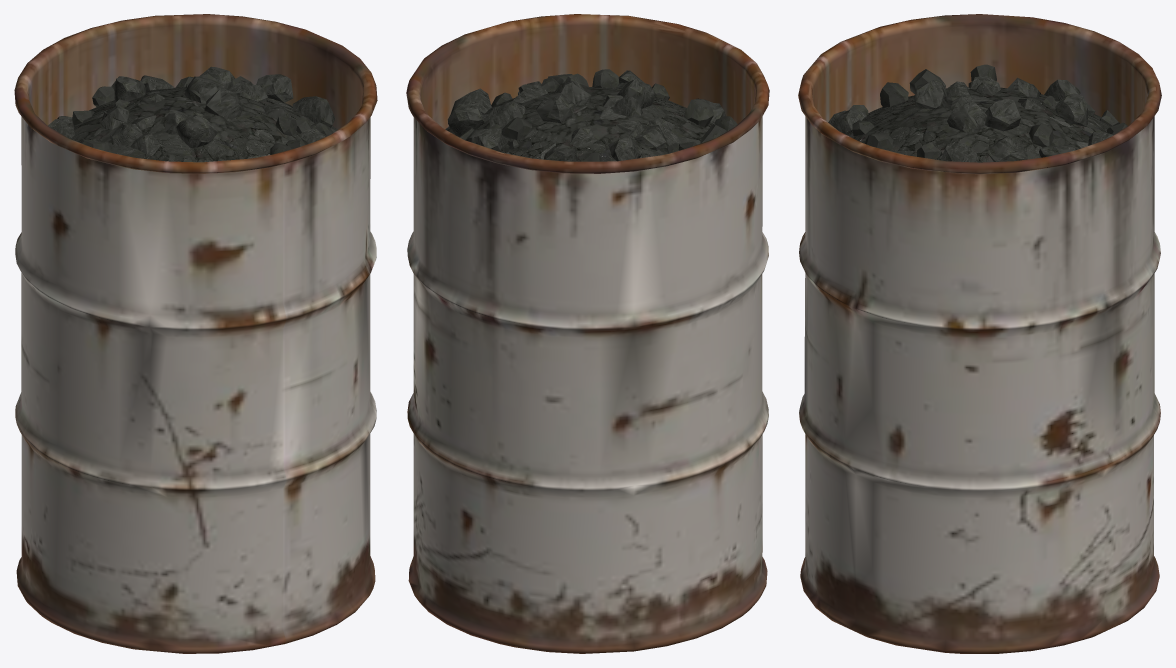
File: hobobarrel_static_alwayson.glb
3 renders of one model, left to right at view 1: azimuth 30°, elevation 25°; view 2: azimuth 150°, elevation 25°; view 3: azimuth 270°, elevation 25°, orthographic.
Parts seen in each view (by area): view 1: hobobarrel_LOD0; view 2: hobobarrel_LOD0; view 3: hobobarrel_LOD0.
Part boxes in pixels (x1=…): hobobarrel_LOD0: x1=14, y1=14, x2=377, y2=653; hobobarrel_LOD0: x1=406, y1=14, x2=769, y2=653; hobobarrel_LOD0: x1=798, y1=14, x2=1161, y2=653.
Size of the model in its own units: 0.7649 by 1.14 by 0.7667.
2 materials, 2 textured.
